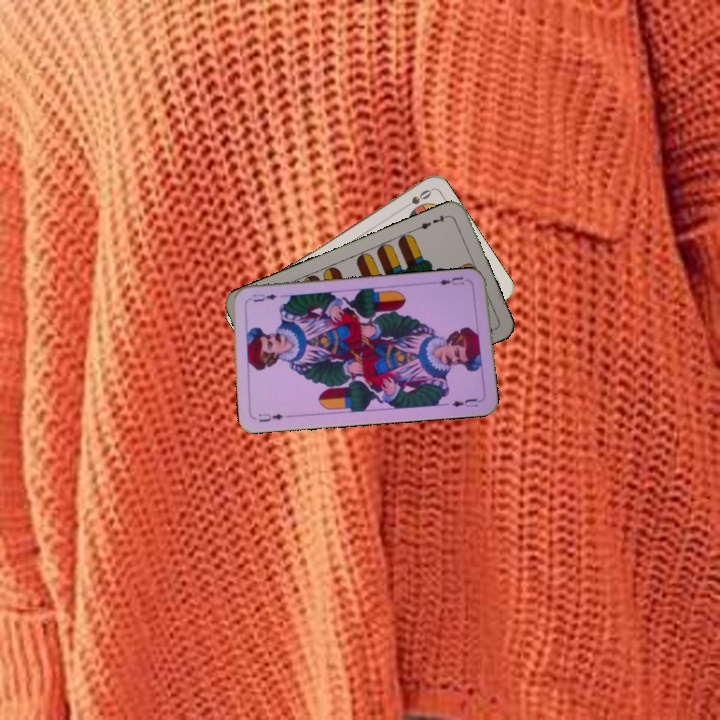E7: (413, 211, 452, 232)
EU: (254, 409, 286, 425), (435, 272, 466, 288)
SO: (397, 185, 434, 213)
